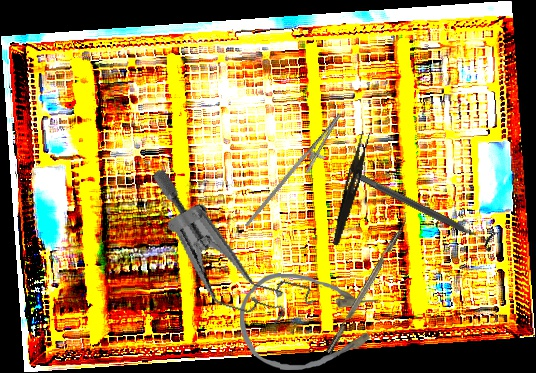Cannula: (239, 272, 380, 372)
Chopper: (318, 209, 414, 355)
Dressing Forceps: (331, 129, 371, 248)
Fixation Ring: (348, 163, 500, 253)
Needle Holder: (244, 103, 351, 243)
Speculum: (119, 165, 342, 339)
